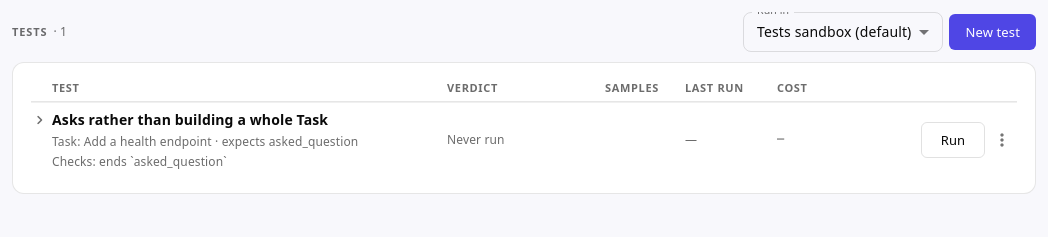
Test: TestsTabContent › says a test has never run rather than showing an empty verdict
Expected: the text "Never run" is shown, [447,131,505,148]
Click the button with aria-label "Show history for Asks rather than building a whole Task": (190, 119) [27,103,1021,177]
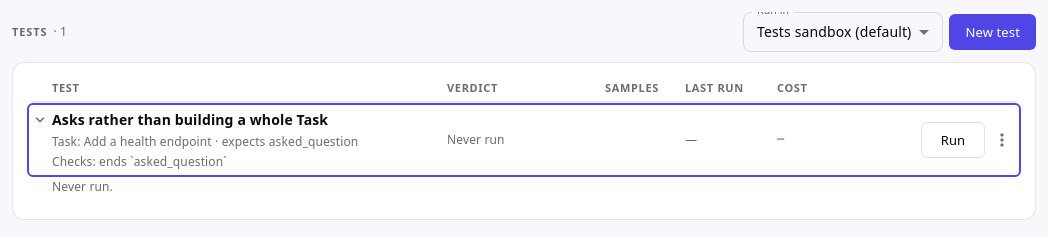
Expected: the text "Never run." is shown, [52,178,113,195]
